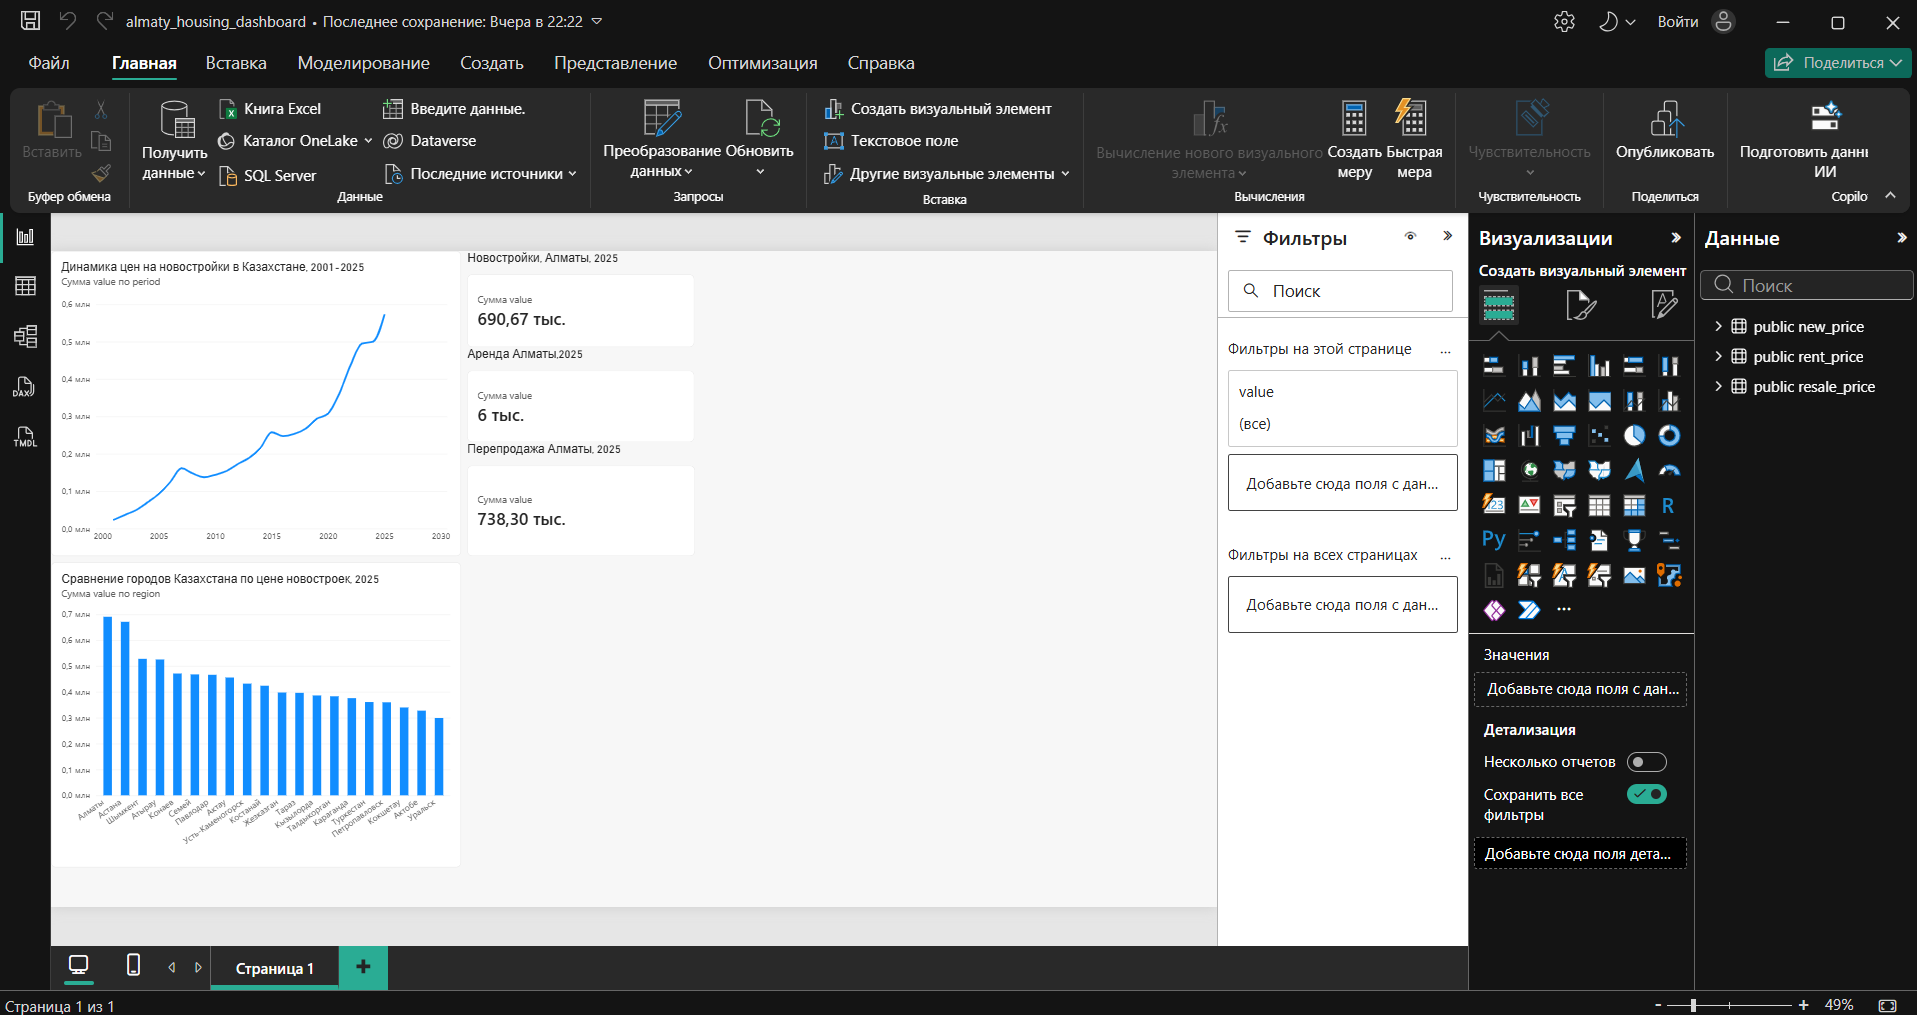

The page's visual inventory and layout, read from the dashboard file:
{"tool":"powerbi","page":{"name":"Страница 1","canvas":[1920,1080],"ordinal":0},"visuals":[{"type":"lineChart","title":"Динамика цен на новостройки в Казахстане, 2001-2025","fields":{"Category":["public new_price.period"],"Y":["Sum(public new_price.value)"]},"box":[0,0,675.1,502.2],"z":0},{"type":"clusteredColumnChart","title":"Сравнение городов Казахстана по цене новостроек, 2025","fields":{"Category":["public new_price.region"],"Y":["Sum(public new_price.value)"]},"box":[0,512,675,502],"z":1},{"type":"cardVisual","title":"Новостройки, Алматы, 2025","fields":{"Data":["Sum(public new_price.value)"]},"box":[685.4,0,374.6,158.5],"z":2},{"type":"cardVisual","title":"Аренда Алматы,2025","fields":{"Data":["Sum(public rent_price.value)"]},"box":[685.4,158.5,374.6,156.4],"z":3},{"type":"cardVisual","title":"Перепродажа Алматы, 2025","fields":{"Data":["Sum(public resale_price.value)"]},"box":[685,314,375,188],"z":4}]}

Visuals, with their boxes on the page's 1920x1080 design canvas (x1, y1, x2, y2). These are canvas units, not pixel positions in the 1917x1015 screenshot, which may show the page scaled, cropped or inside an application window:
"Динамика цен на новостройки в Казахстане, 2001-2025" lineChart: BBox(0, 0, 675, 502)
"Сравнение городов Казахстана по цене новостроек, 2025" clusteredColumnChart: BBox(0, 512, 675, 1014)
"Новостройки, Алматы, 2025" cardVisual: BBox(685, 0, 1060, 158)
"Аренда Алматы,2025" cardVisual: BBox(685, 158, 1060, 315)
"Перепродажа Алматы, 2025" cardVisual: BBox(685, 314, 1060, 502)
